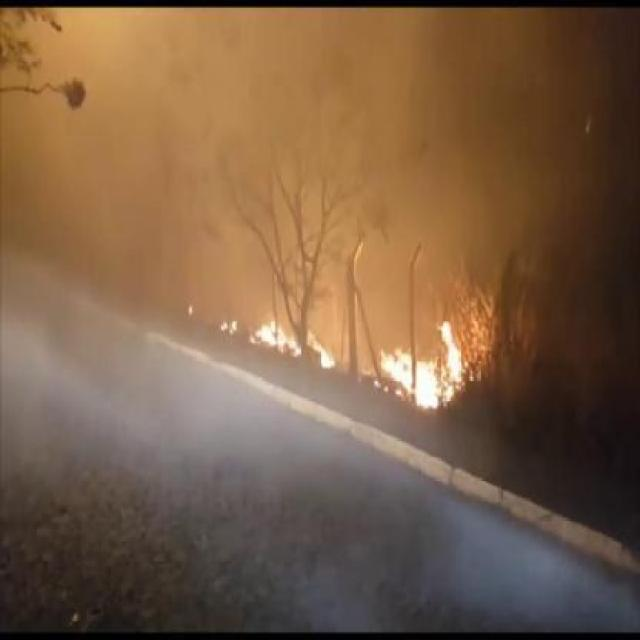Fire: (379, 320, 474, 411), (302, 325, 339, 374), (250, 320, 299, 354), (218, 316, 240, 336)
